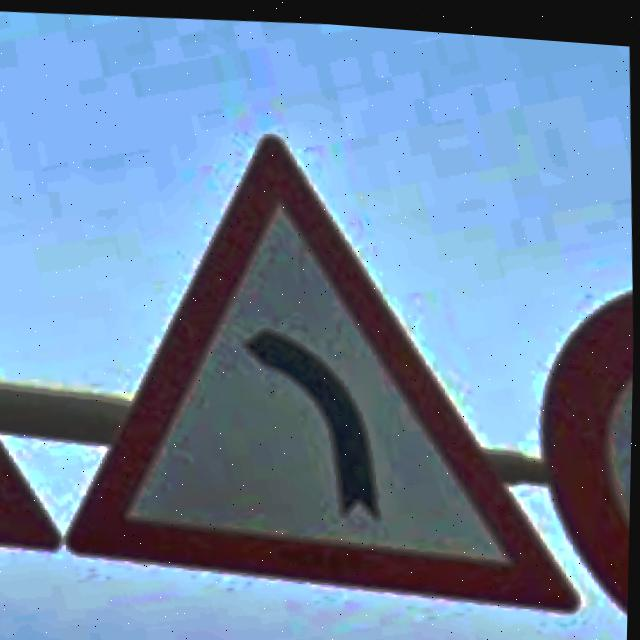leftbend: (68, 134, 580, 601)
